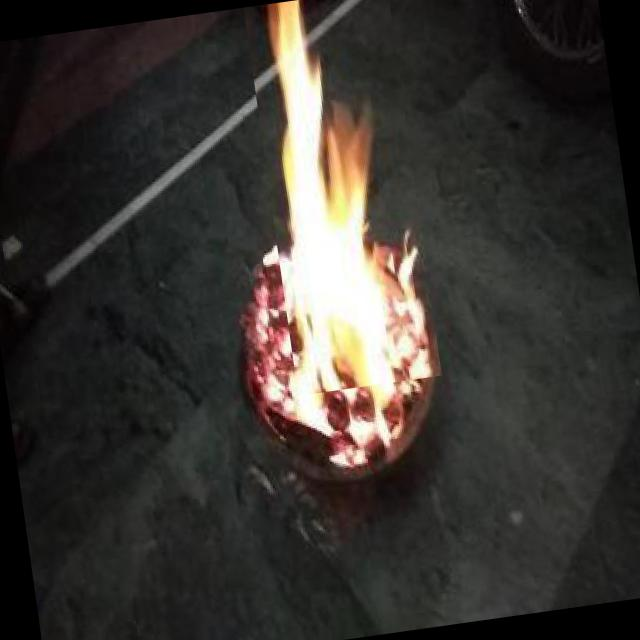fire: (244, 0, 442, 395)
